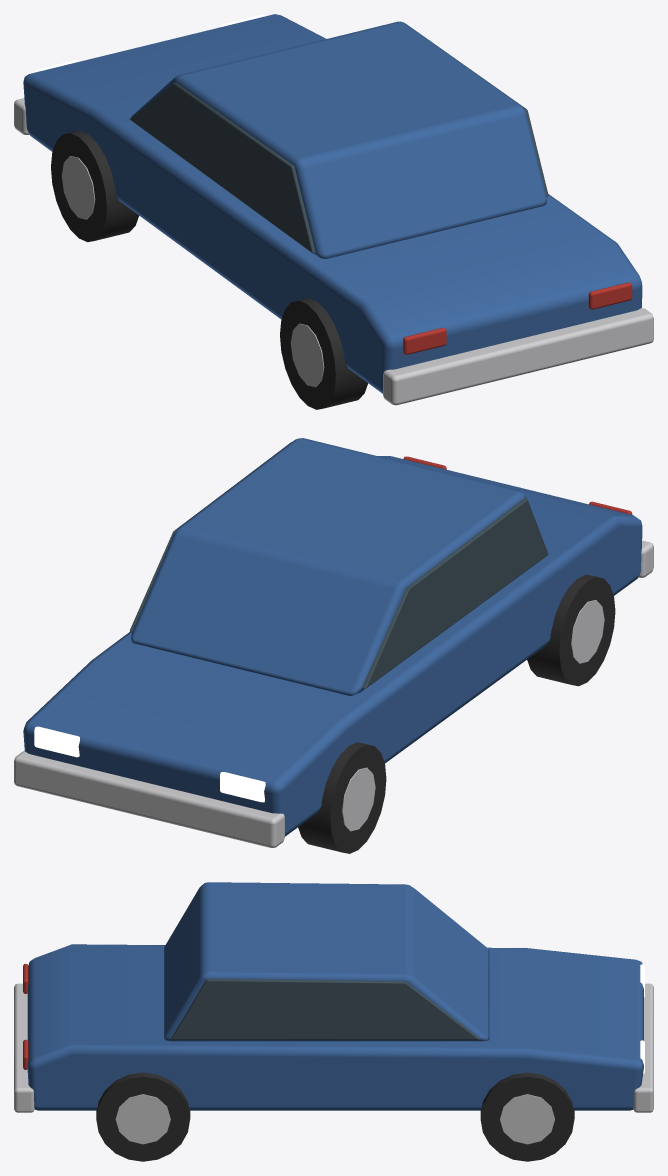
File: car_2.glb
The picture shows the model from 3 angles, top to bottom: view 1: azimuth 30°, elevation 25°; view 2: azimuth 150°, elevation 25°; view 3: azimuth 270°, elevation 25°; orthographic projection. The views are drawn at different scales.
Parts seen in each view (by area): view 1: Body, Cabin, Windows, BumperR, Wheel, Wheel.001, Hub.001, Hub, Taillight.001, Taillight; view 2: Body, Cabin, Windows, BumperF, Wheel, Wheel.001, Hub.001, Hub, Headlight.001, Headlight; view 3: Body, Cabin, Windows, Wheel.003, Wheel.002, Hub.002, Hub.003, BumperR, BumperF.
Boxes of the visible parts, x1,y1,x2,y2 form: Body: (23, 14, 642, 393); Cabin: (131, 21, 546, 258); Windows: (130, 60, 548, 253); BumperR: (383, 308, 653, 405); Wheel: (280, 298, 367, 409); Wheel.001: (51, 130, 138, 242); Hub.001: (61, 156, 95, 219); Hub: (290, 323, 324, 387); Taillight.001: (588, 282, 632, 309); Taillight: (403, 328, 446, 354); Body: (23, 456, 642, 836); Cabin: (131, 438, 526, 695); Windows: (130, 442, 548, 688); BumperF: (14, 751, 284, 847); Wheel: (527, 574, 615, 686); Wheel.001: (298, 742, 386, 853); Hub.001: (342, 767, 375, 831); Hub: (571, 600, 604, 663); Headlight.001: (34, 726, 79, 757); Headlight: (220, 772, 265, 802); Body: (27, 944, 643, 1110); Cabin: (164, 882, 489, 1041); Windows: (171, 978, 479, 1039); Wheel.003: (480, 1072, 574, 1161); Wheel.002: (96, 1072, 190, 1161); Hub.002: (115, 1094, 170, 1144); Hub.003: (500, 1094, 554, 1144); BumperR: (14, 983, 34, 1112); BumperF: (633, 983, 653, 1112).
Size of the model in its own units: 1.97 by 1.42 by 4.63.
